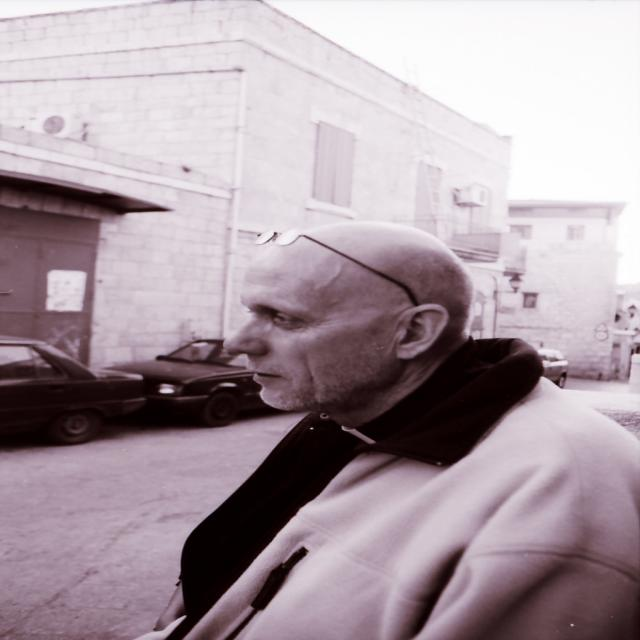other: (0, 336, 143, 446), (103, 336, 276, 426), (536, 348, 568, 388)
